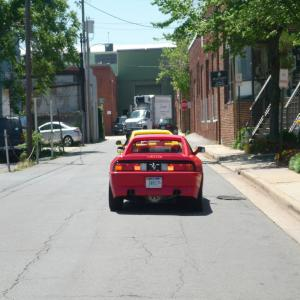Vehicle-registration-plate: (146, 176, 163, 190)
